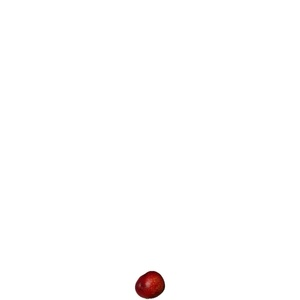nectarina: (135, 271, 166, 300)
